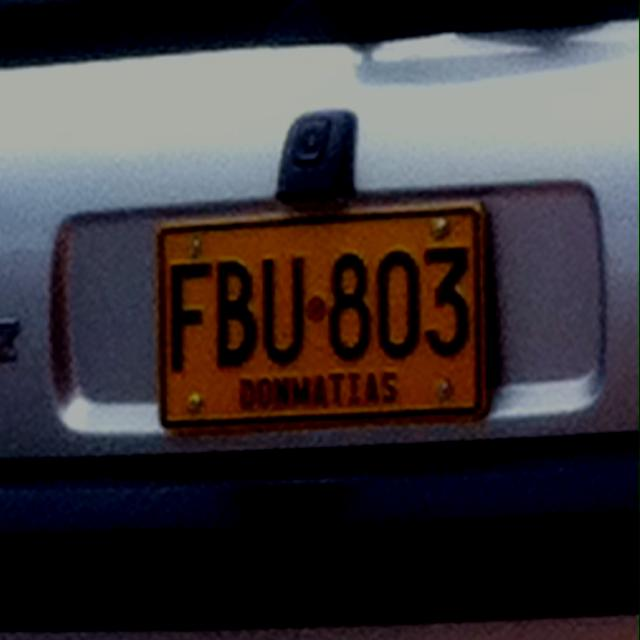placa: (153, 192, 510, 428)
